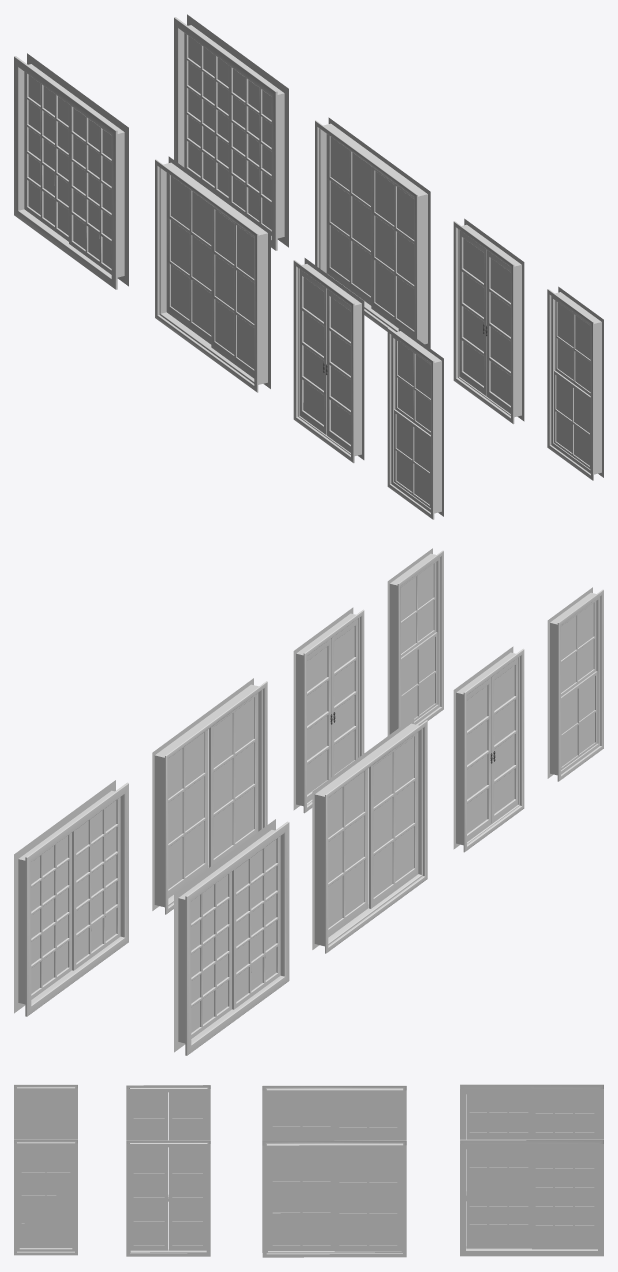
File: uploads_files_5080701_Window+Package.fbx
The picture shows the model from 3 angles, top to bottom: view 1: azimuth 30°, elevation 25°; view 2: azimuth 150°, elevation 25°; view 3: azimuth 270°, elevation 25°; orthographic projection. The views are drawn at different scales.
Visible parts, largest first — view 1: Plane.036, Plane.016, Plane.035, Plane.042, Plane.006, Plane.024, Plane.010, Plane.017, Plane.014, Plane.038, Plane.012, Plane.040 (+33 smaller); view 2: Plane.036, Plane.016, Plane.024, Plane.010, Plane.012, Plane.040, Plane.035, Plane.042, Plane.006, Plane.014, Plane.038, Plane.017 (+32 smaller); view 3: Plane.012, Plane.024, Plane.006, Plane.014, Plane.016, Plane.017, Plane.018, Plane.020, Plane.010, Plane.040, Plane.042, Plane.025 (+31 smaller).
Boxes of the visible parts, x1=… form: Plane.036: x1=14, y1=53, x2=128, y2=289; Plane.016: x1=174, y1=14, x2=288, y2=250; Plane.035: x1=155, y1=156, x2=270, y2=392; Plane.042: x1=171, y1=176, x2=211, y2=335; Plane.006: x1=330, y1=137, x2=370, y2=296; Plane.024: x1=375, y1=171, x2=414, y2=330; Plane.010: x1=215, y1=210, x2=254, y2=369; Plane.017: x1=315, y1=117, x2=430, y2=348; Plane.014: x1=188, y1=36, x2=228, y2=196; Plane.038: x1=28, y1=75, x2=68, y2=235; Plane.012: x1=233, y1=69, x2=271, y2=229; Plane.040: x1=73, y1=108, x2=111, y2=268; Plane.036: x1=174, y1=819, x2=289, y2=1055; Plane.016: x1=14, y1=780, x2=128, y2=1016; Plane.024: x1=213, y1=698, x2=253, y2=858; Plane.010: x1=373, y1=737, x2=413, y2=897; Plane.012: x1=76, y1=800, x2=116, y2=962; Plane.040: x1=236, y1=839, x2=276, y2=1001; Plane.035: x1=312, y1=717, x2=427, y2=953; Plane.042: x1=328, y1=771, x2=364, y2=928; Plane.006: x1=168, y1=732, x2=204, y2=888; Plane.014: x1=31, y1=835, x2=67, y2=993; Plane.038: x1=191, y1=875, x2=227, y2=1032; Plane.017: x1=152, y1=678, x2=267, y2=914; Plane.012: x1=469, y1=1150, x2=528, y2=1245; Plane.024: x1=272, y1=1152, x2=330, y2=1244; Plane.006: x1=339, y1=1152, x2=397, y2=1245; Plane.014: x1=535, y1=1151, x2=594, y2=1245; Plane.016: x1=460, y1=1139, x2=603, y2=1256; Plane.017: x1=262, y1=1140, x2=406, y2=1257; Plane.018: x1=133, y1=1151, x2=164, y2=1245; Plane.020: x1=172, y1=1151, x2=202, y2=1245; Plane.010: x1=272, y1=1096, x2=330, y2=1140; Plane.040: x1=469, y1=1095, x2=528, y2=1139; Plane.042: x1=339, y1=1097, x2=397, y2=1140; Plane.025: x1=21, y1=1199, x2=70, y2=1246.
Size of the model in its own units: 113 by 99.13 by 468.
